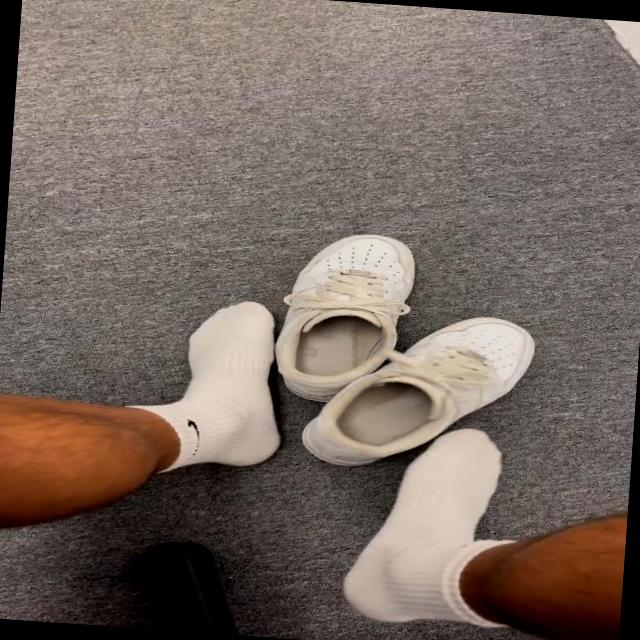nike_original_airforce: (295, 306, 546, 488), (263, 224, 427, 407)
